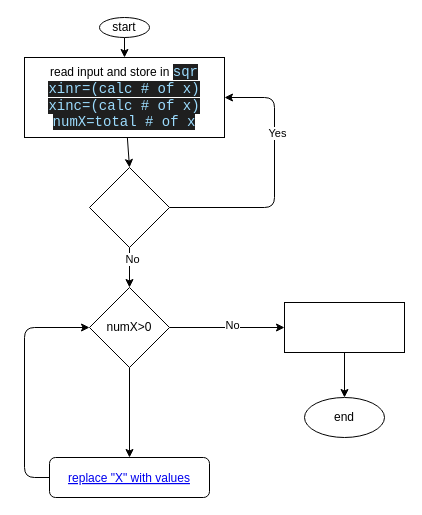
Image size: 422x515. Some labels were removed from this diagram. The centre of each missing label's shape, as x and y in pixels:
more input: point (129, 207)
print iCube: point (344, 327)
